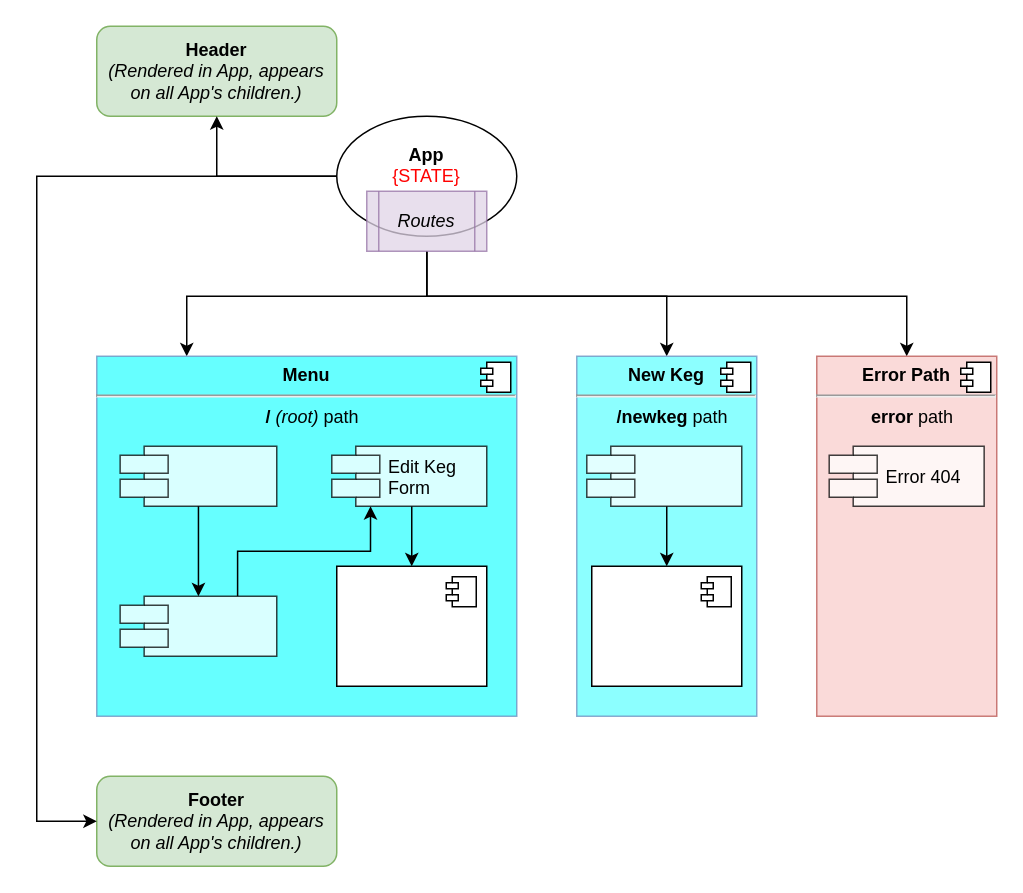
Some shapes in this 1023 by 893 pixel diagram are drawn without their labels. Each missing label, with the centre of its shape:
Keg: the point at 198,625
Keg List: the point at 198,475
Lift (new) Keg to {state}: the point at 666,625
Lift (update of) Keg to {state}: the point at 411,625
New Keg Form: the point at 663,475
